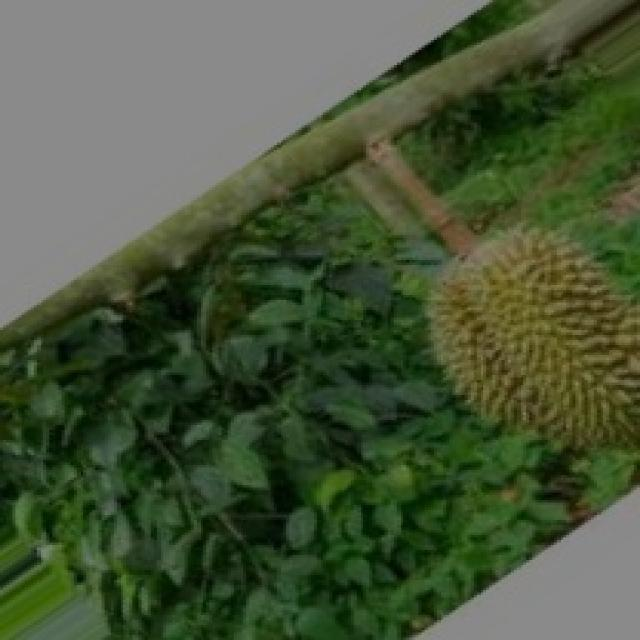fruit: (400, 200, 640, 490)
